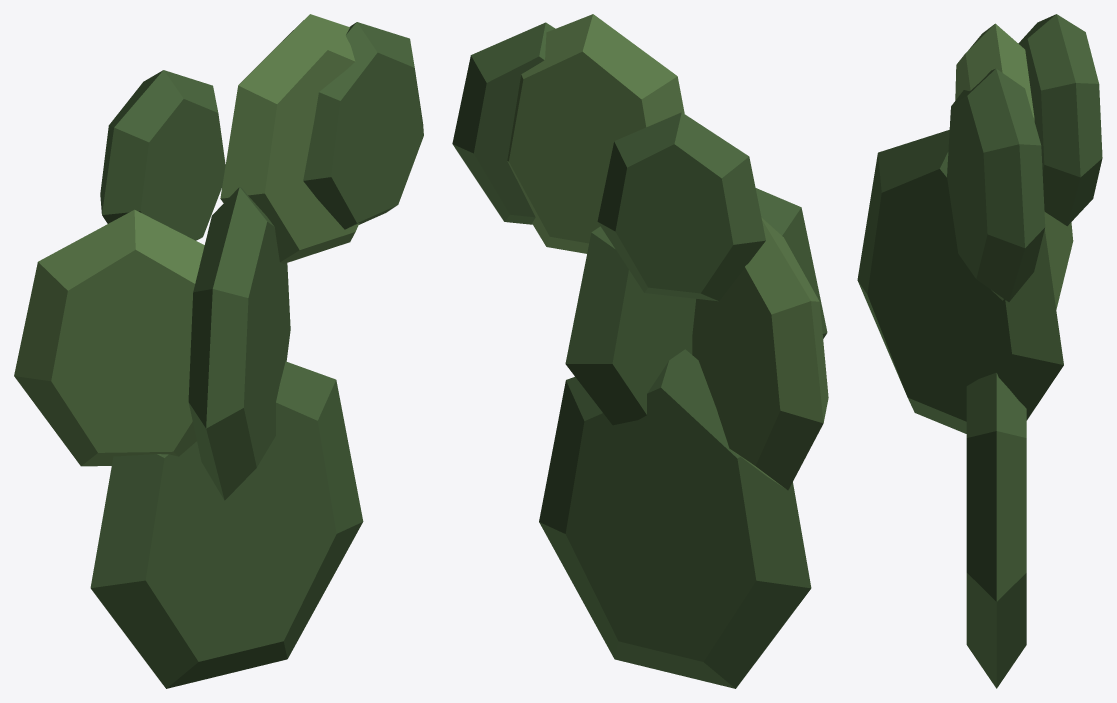
The model's file is SM_PricklyPear_B.fbx.
3 views of the same model, side by side, from view 1: azimuth 30°, elevation 25°; view 2: azimuth 150°, elevation 25°; view 3: azimuth 270°, elevation 25° (orthographic). The views are drawn at different scales.
Visible parts, largest first — view 1: PricklyPear_B; view 2: PricklyPear_B; view 3: PricklyPear_B.
Boxes of the visible parts, x1=… form: PricklyPear_B: x1=14, y1=14, x2=423, y2=688; PricklyPear_B: x1=452, y1=14, x2=828, y2=688; PricklyPear_B: x1=857, y1=14, x2=1102, y2=688.
Size of the model in its own units: 94.87 by 48.8 by 149.
